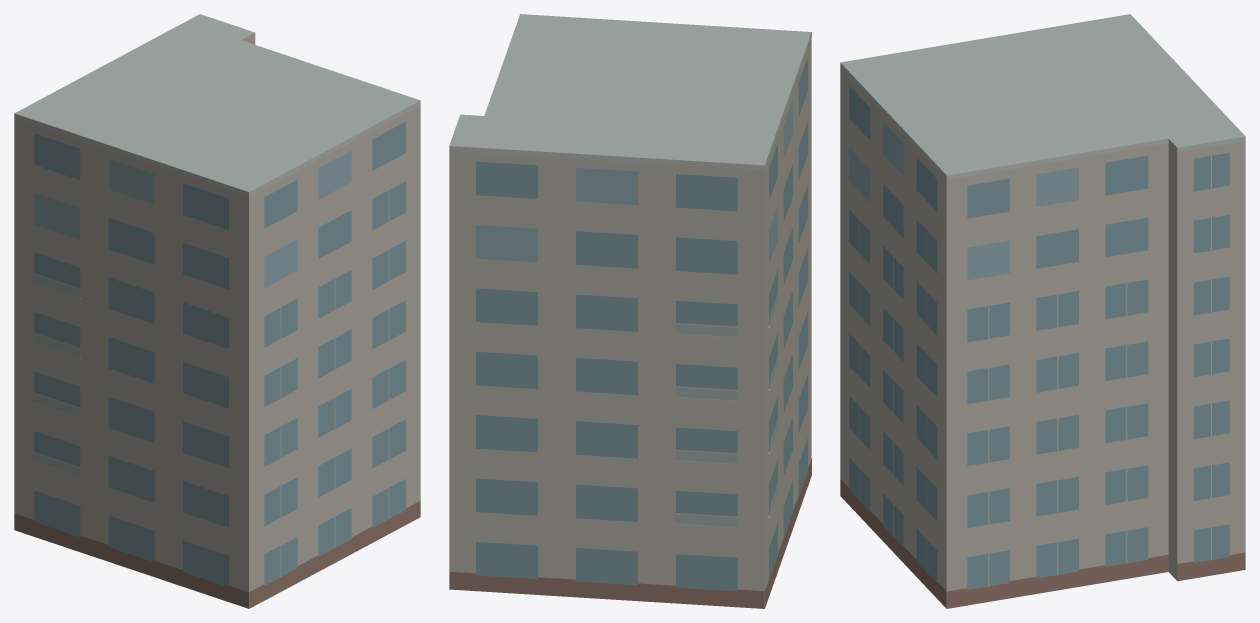
The model's file is survey-upis-32858602.glb.
The picture shows the model from 3 angles, left to right: view 1: azimuth 30°, elevation 25°; view 2: azimuth 150°, elevation 25°; view 3: azimuth 270°, elevation 25°; orthographic projection. The views are drawn at different scales.
Parts seen in each view (by area): view 1: survey-upis-32858602.tmp; view 2: survey-upis-32858602.tmp; view 3: survey-upis-32858602.tmp.
Boxes of the visible parts, x1,y1,x2,y2 form: survey-upis-32858602.tmp: [14, 14, 420, 608]; survey-upis-32858602.tmp: [449, 14, 811, 608]; survey-upis-32858602.tmp: [840, 14, 1245, 608].
Size of the model in its own units: 17.07 by 21.35 by 18.11.
